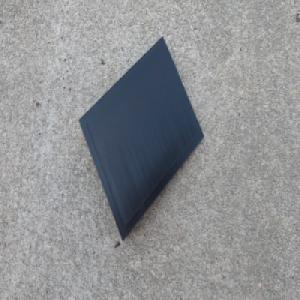PlasticPart: (77, 35, 204, 243)
